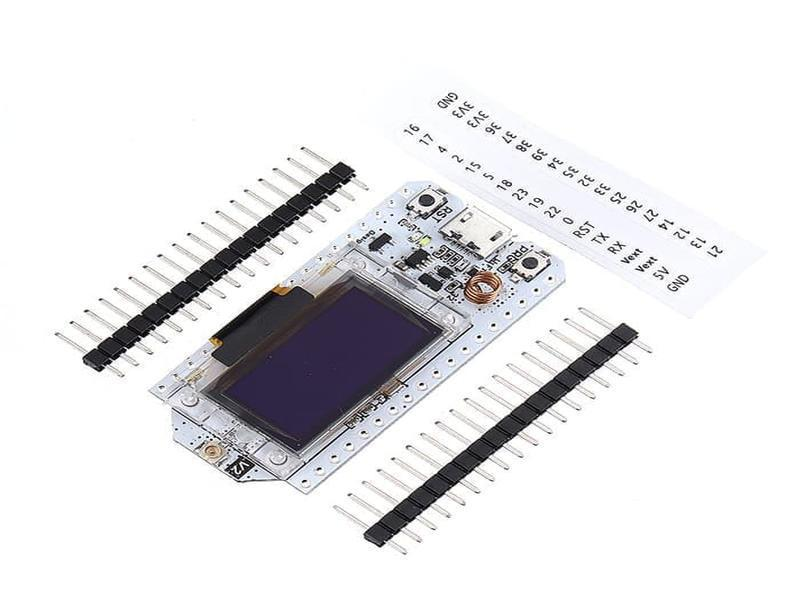Heltec_ESP32_Lora: (138, 169, 570, 499)
